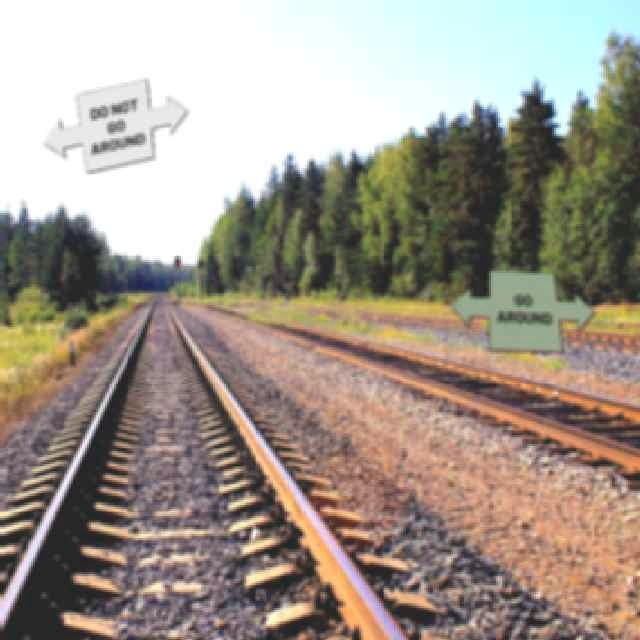DO_NOT_GO_AROUND: (41, 77, 187, 172)
GO_AROUND: (448, 268, 594, 352)
